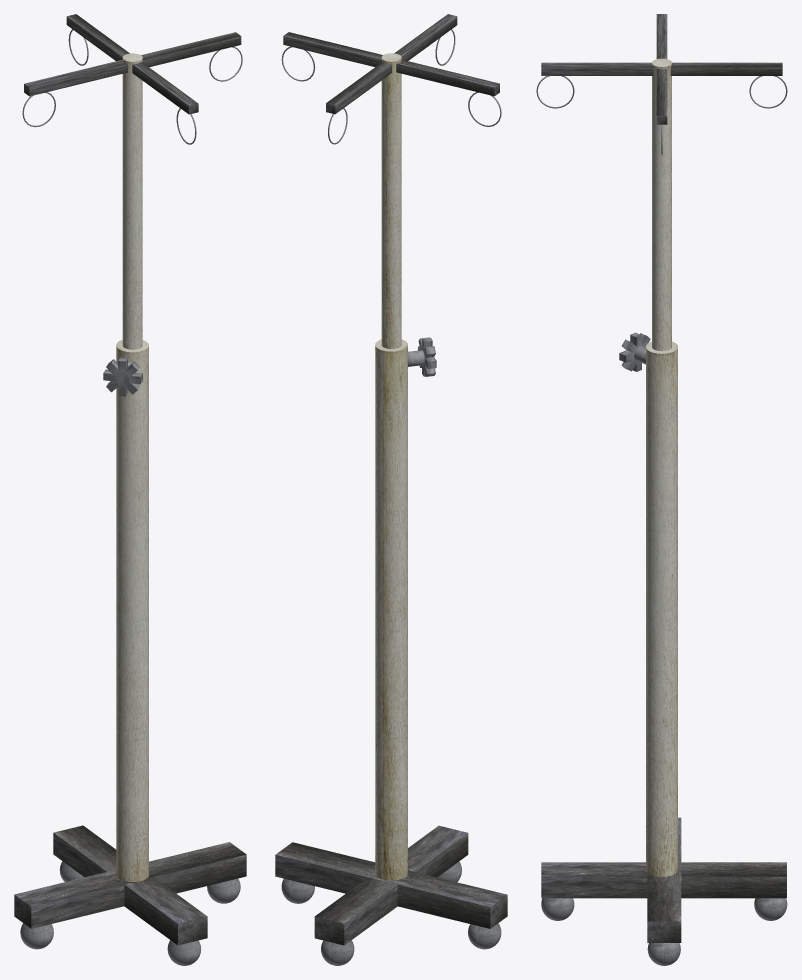
Rendered from IVDrip.FBX.
3 views of the same model, side by side, from view 1: azimuth 30°, elevation 25°; view 2: azimuth 150°, elevation 25°; view 3: azimuth 270°, elevation 25° (orthographic).
Visible parts, largest first — view 1: poles, frame, Stand; view 2: poles, frame, Stand; view 3: poles, frame, Stand.
Boxes of the visible parts, x1,y1,x2,y2 form: poles: [116, 53, 148, 881]; frame: [14, 14, 246, 945]; Stand: [20, 29, 242, 965]; poles: [375, 53, 407, 880]; frame: [275, 14, 507, 945]; Stand: [281, 29, 501, 965]; poles: [646, 58, 677, 876]; frame: [541, 14, 786, 942]; Stand: [536, 76, 787, 965].
Size of the model in its own units: 25.94 by 97.7 by 25.94.
3 materials, 3 textured.
